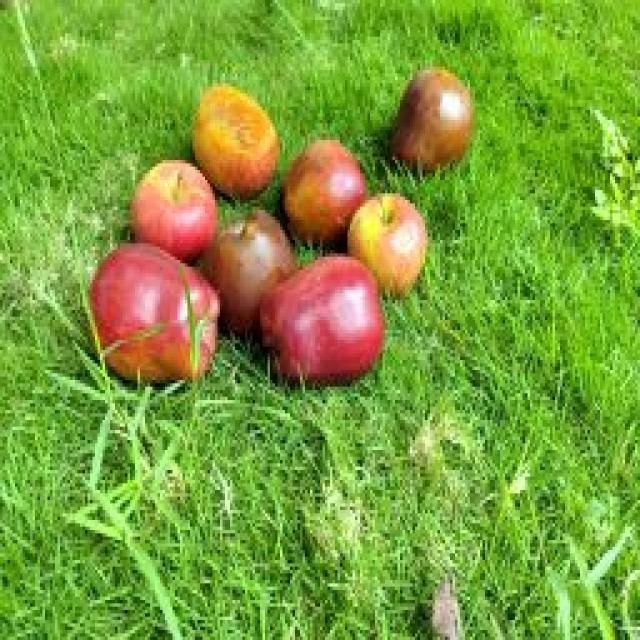Organik: (90, 243, 222, 397), (259, 252, 394, 400), (202, 204, 296, 346), (388, 52, 479, 184), (119, 148, 219, 261), (276, 126, 364, 246), (196, 89, 286, 199), (349, 188, 435, 302)
